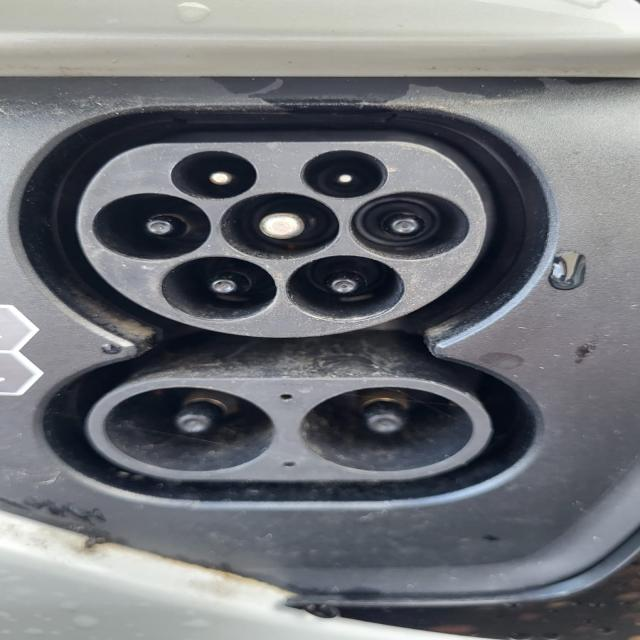inlet: (75, 141, 487, 338)
inlet-above-left: (171, 151, 258, 200)
inlet-above-right: (301, 150, 388, 199)
inlet-below-left: (160, 256, 277, 321)
inlet-below-right: (287, 256, 403, 322)
inlet-circle: (219, 193, 340, 261)
inlet-circle-left: (92, 193, 211, 262)
inlet-circle-right: (350, 192, 470, 260)
inlet-minus: (300, 387, 474, 472)
inlet-plus: (105, 387, 275, 471)
